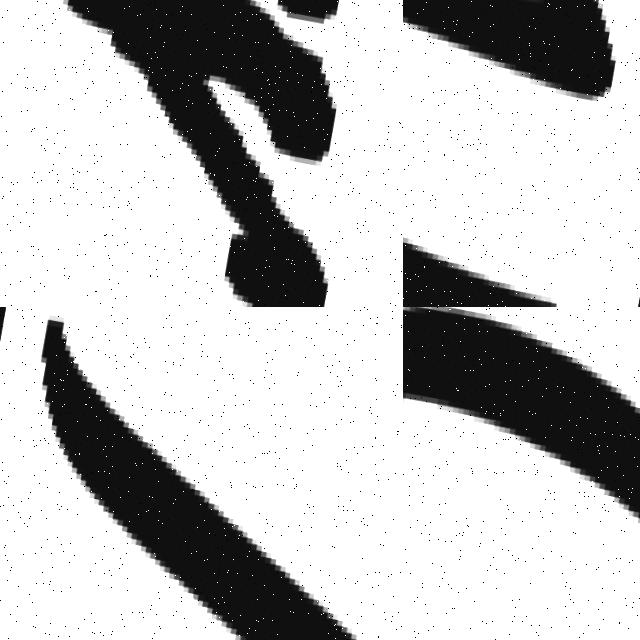7: (0, 307, 403, 640)
C: (403, 307, 640, 535)
U: (403, 0, 640, 307)
W: (4, 0, 357, 263)
